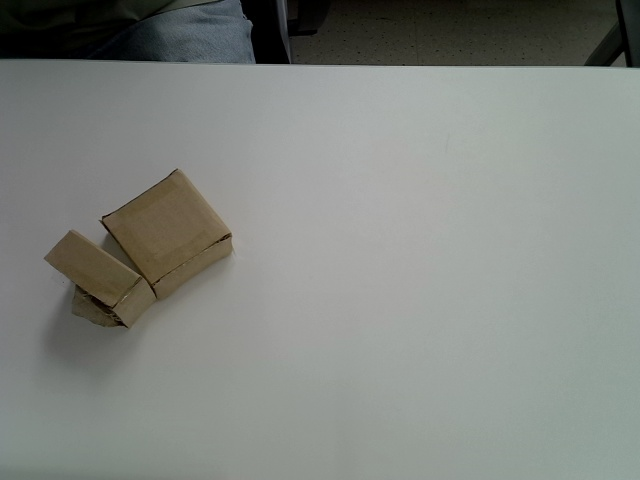defect: (43, 230, 155, 329)
normal: (100, 166, 233, 299)
